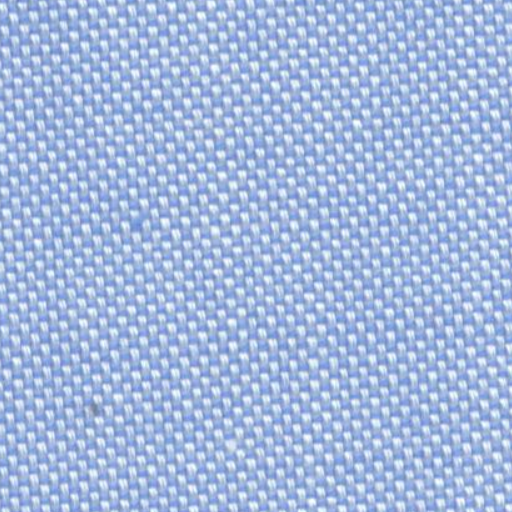WuZi: (69, 382, 124, 432)
